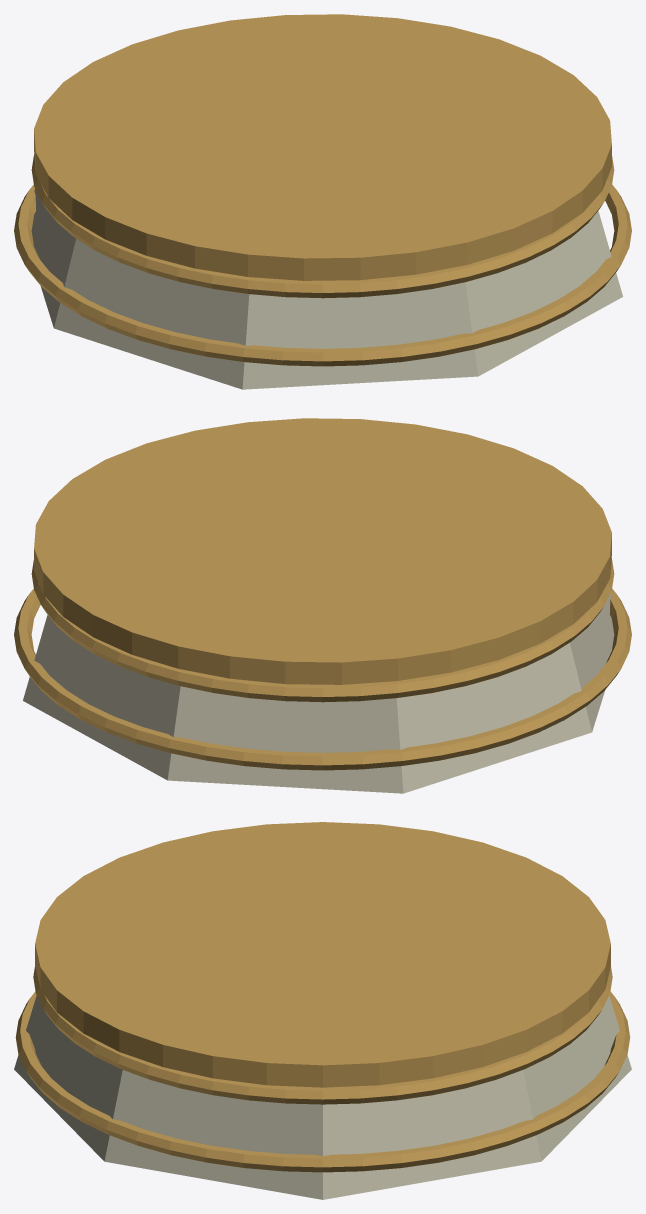
The model's file is plinth.fbx.
The picture shows the model from 3 angles, top to bottom: view 1: azimuth 30°, elevation 25°; view 2: azimuth 150°, elevation 25°; view 3: azimuth 270°, elevation 25°; orthographic projection.
Parts seen in each view (by area): view 1: Brass lip, Octagonal plinth, plinth_Aged brass.001; view 2: Brass lip, Octagonal plinth, plinth_Aged brass.001; view 3: Brass lip, Octagonal plinth, plinth_Aged brass.001.
Boxes of the visible parts, <box> form: Brass lip: <box>34,14,611,280</box>; Octagonal plinth: <box>31,189,622,389</box>; plinth_Aged brass.001: <box>14,154,631,366</box>; Brass lip: <box>34,418,611,684</box>; Octagonal plinth: <box>23,593,614,793</box>; plinth_Aged brass.001: <box>14,558,631,770</box>; Brass lip: <box>35,822,610,1087</box>; Octagonal plinth: <box>14,995,631,1199</box>; plinth_Aged brass.001: <box>15,966,630,1172</box>.
Bounding box in the file's own units: 176 × 39.5 × 176.
